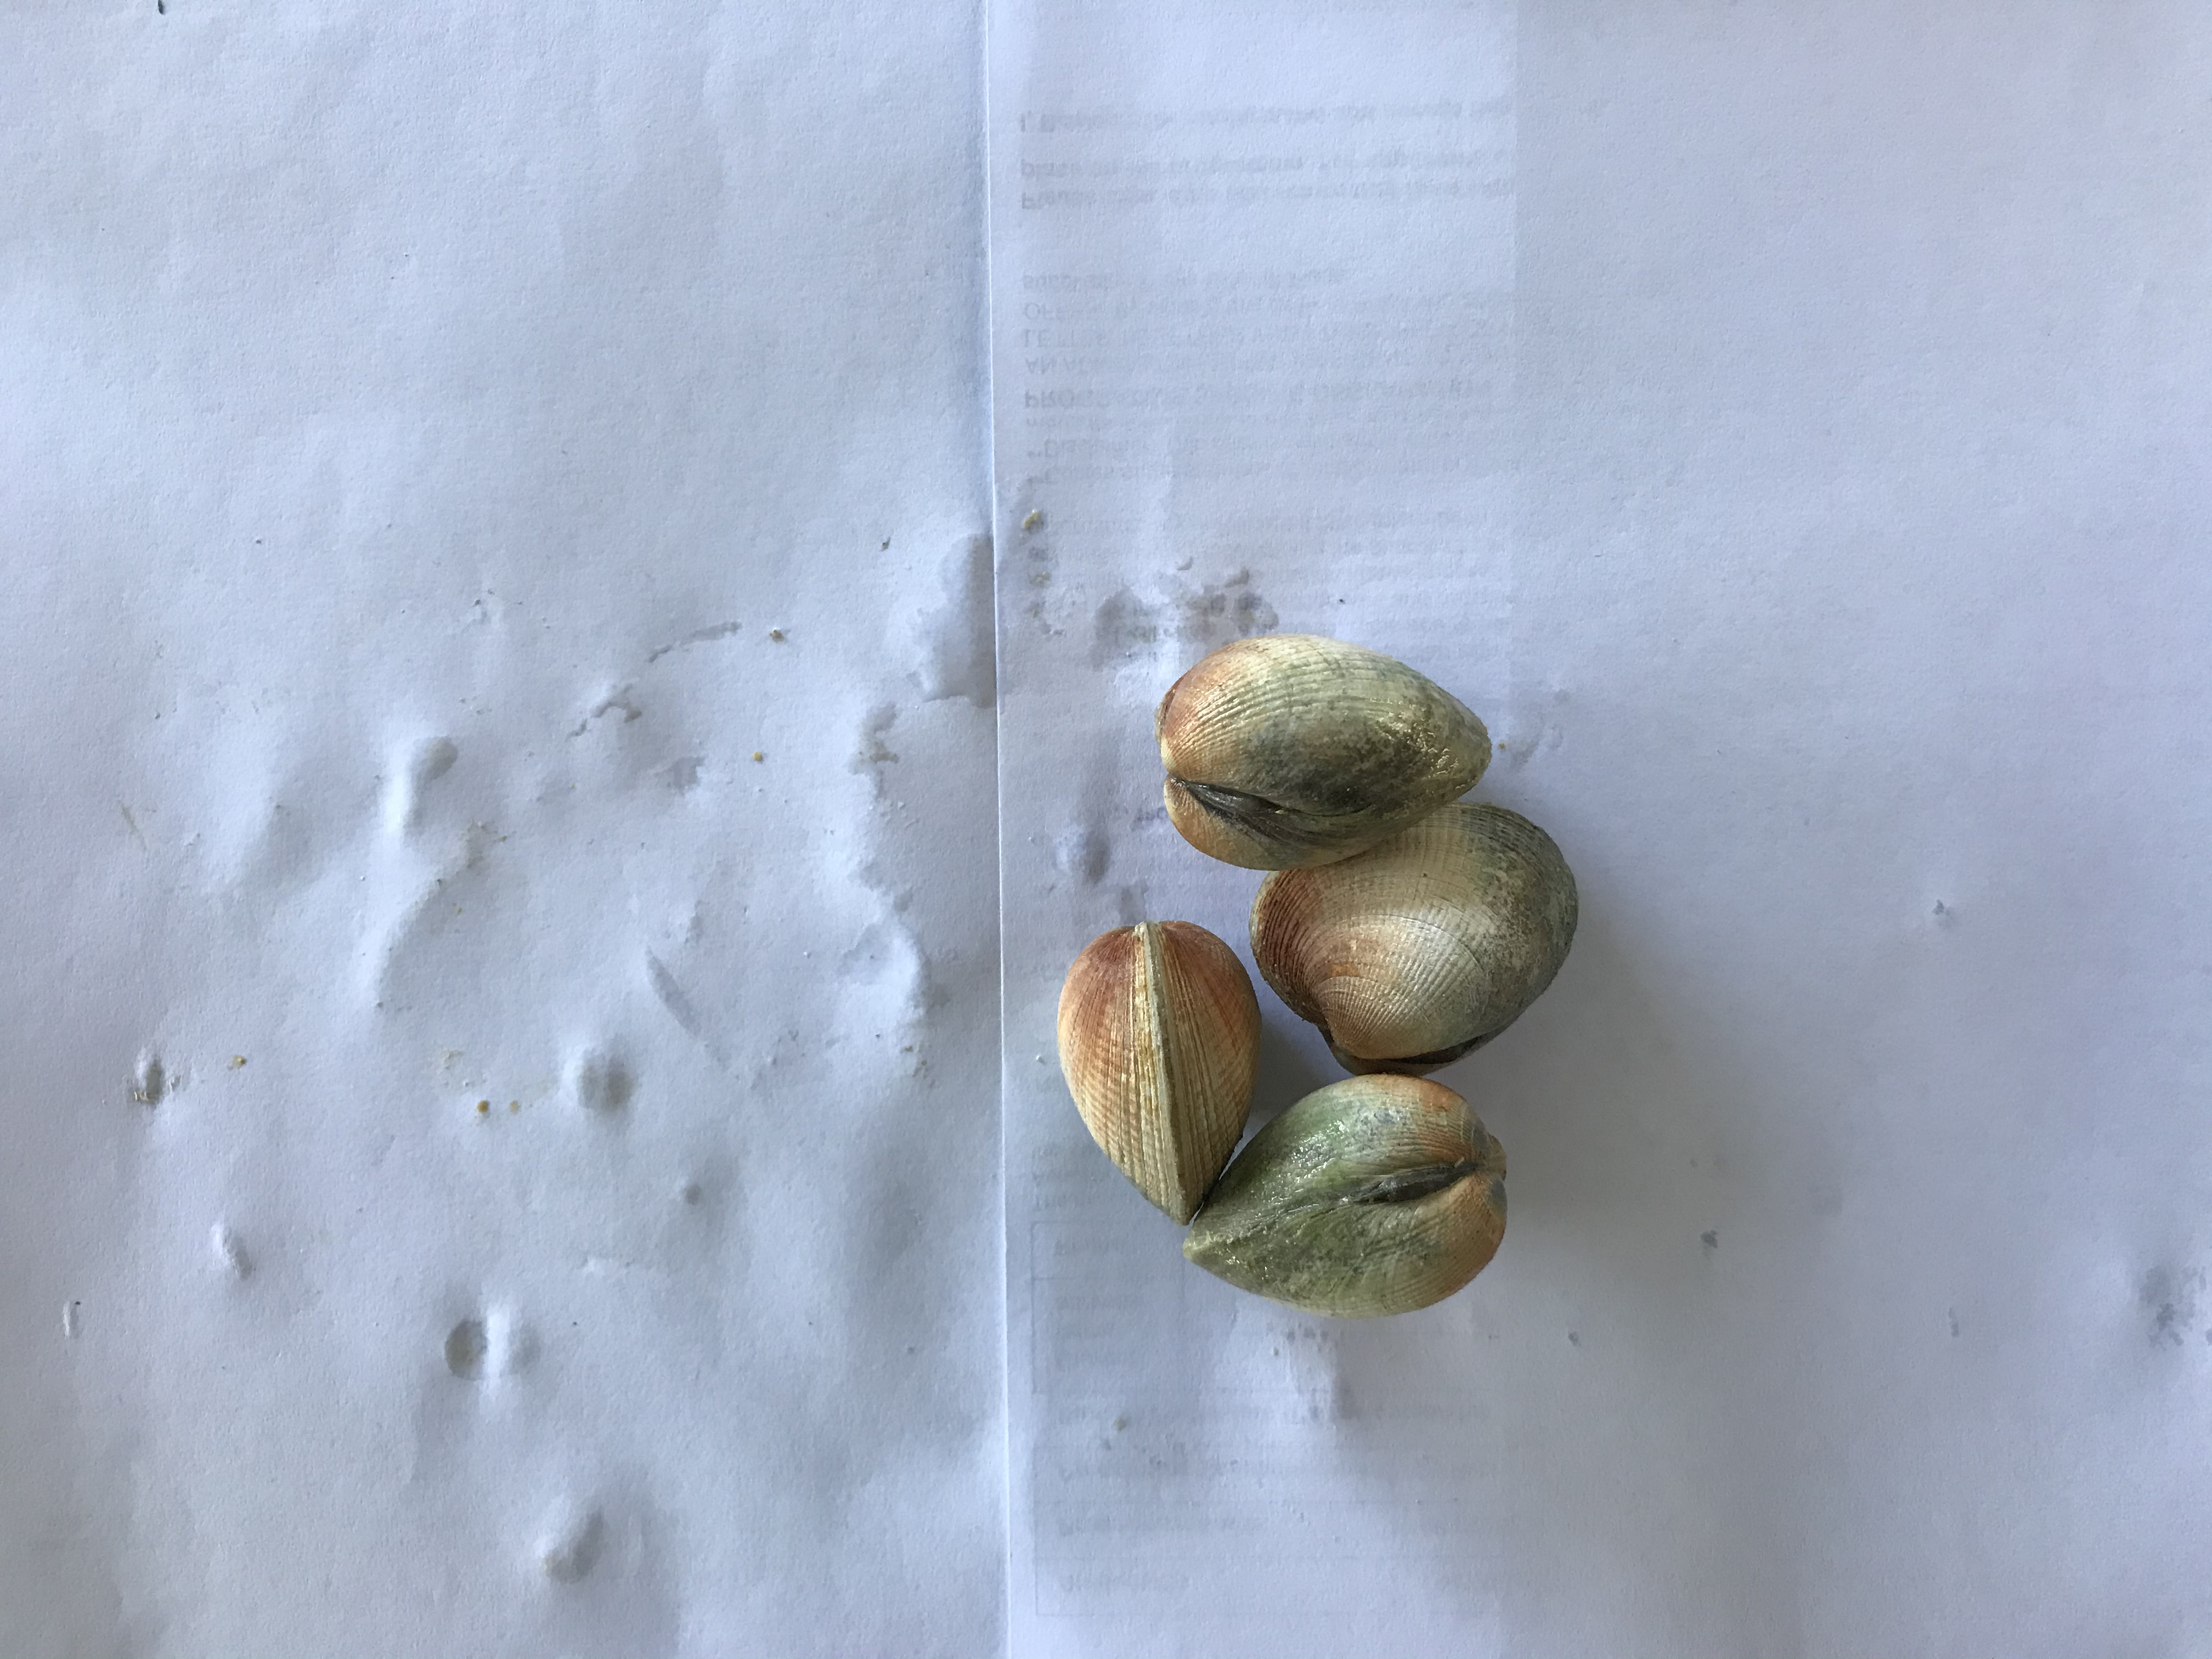cockle: (1242, 795, 1587, 1087), (1170, 1070, 1531, 1326), (1153, 638, 1500, 873), (1049, 915, 1270, 1227)
